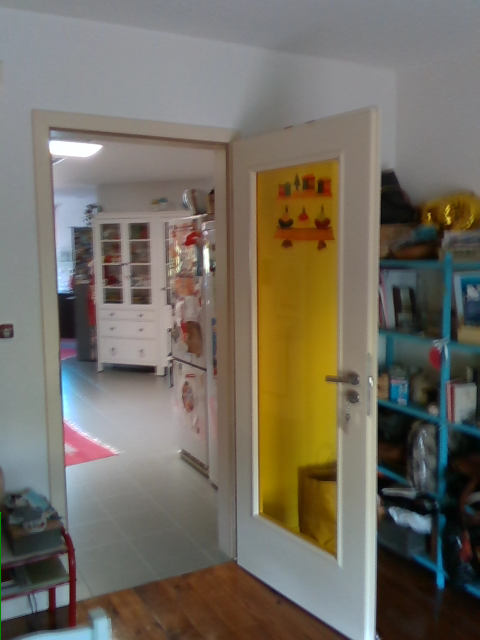open: (30, 108, 377, 639)
